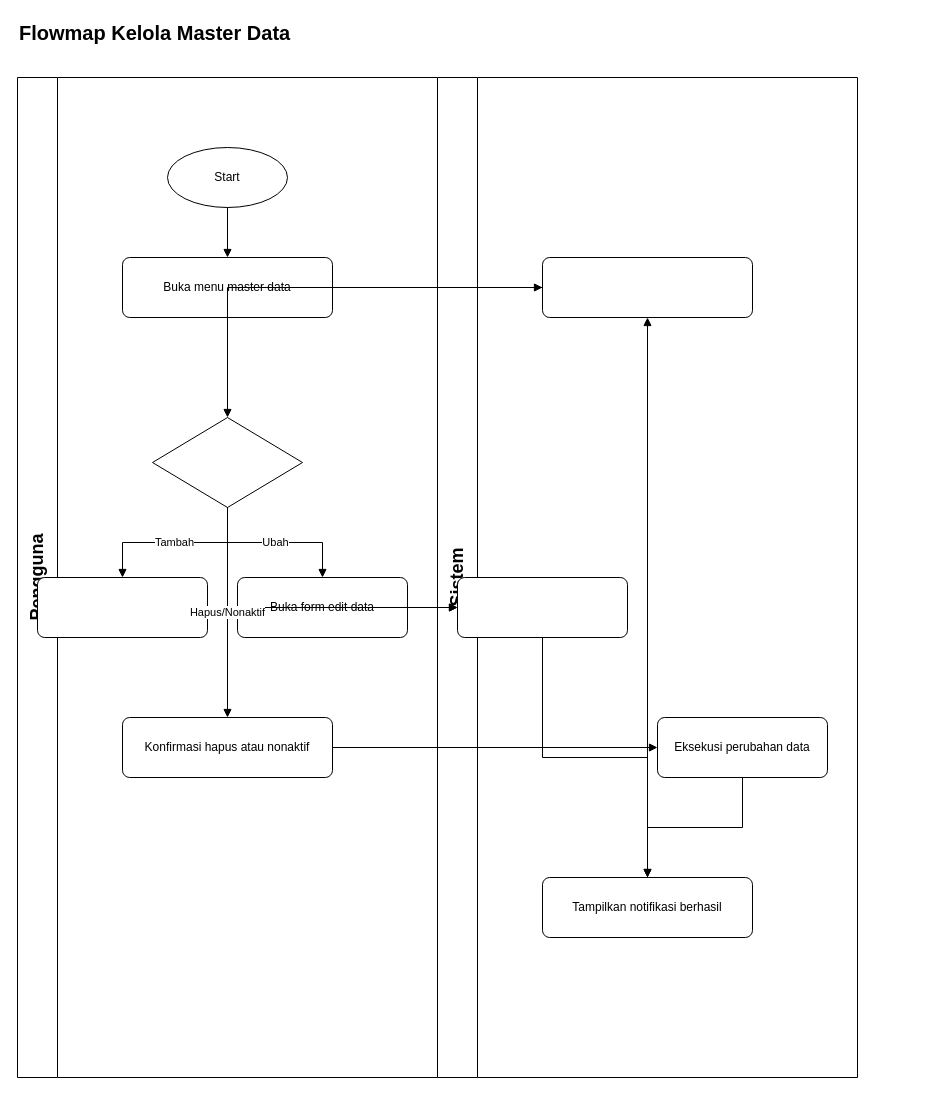
Image size: 935x1095. Some labels were removed from this diagram. The shapes that lost their labels are listed below. From the top down, each one's centre as x and y in pixels, then its label:
pixel 647 287: Tampilkan daftar dan filter
pixel 227 462: Pilih aksi
pixel 122 607: Isi form data baru
pixel 542 607: Validasi dan simpan data
